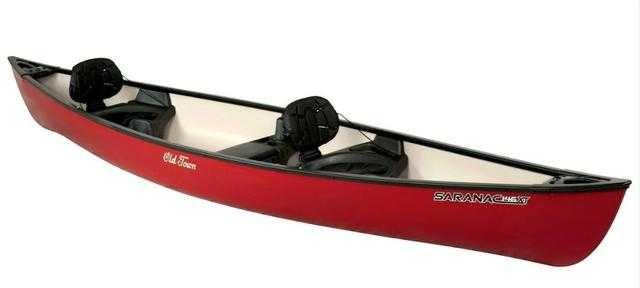kayak: (5, 60, 635, 270)
